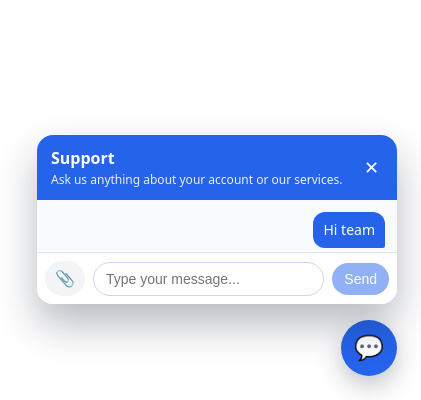
Test: CustomerSupportChatWidget chat flow › replays seeded history and threads session IDs through transport sends
Expected: the text "Hi team" is shown, x1=324 y1=220 x2=375 y2=239
In the field with placeholder "Type your message...": {"x": 209, "y": 278} x1=93 y1=262 x2=324 y2=296, type "hello there"
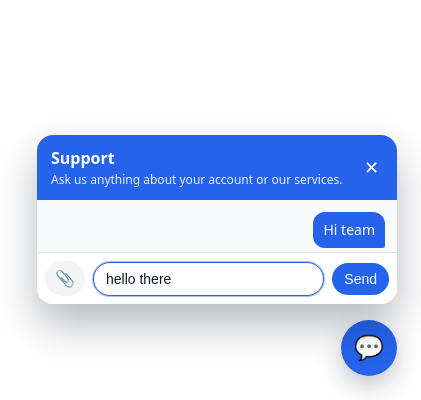
Click the button "Send": {"x": 361, "y": 278} x1=332 y1=262 x2=389 y2=294
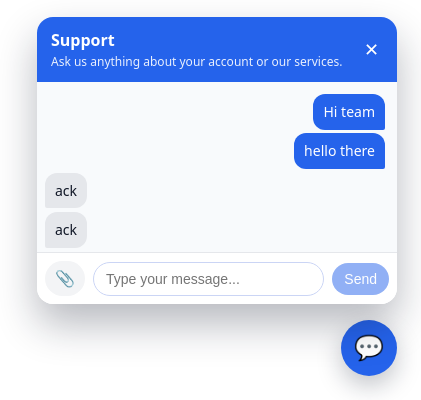
Expected: the 1st text "ack" is shown, x1=55 y1=181 x2=77 y2=200
